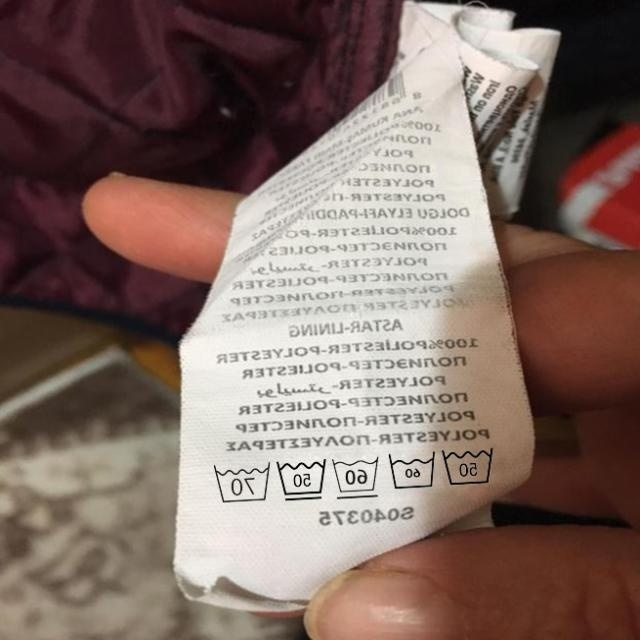50C: (438, 440, 500, 490), (273, 455, 329, 504)
60C: (328, 452, 381, 500), (384, 448, 438, 494)
70C: (207, 460, 271, 505)
